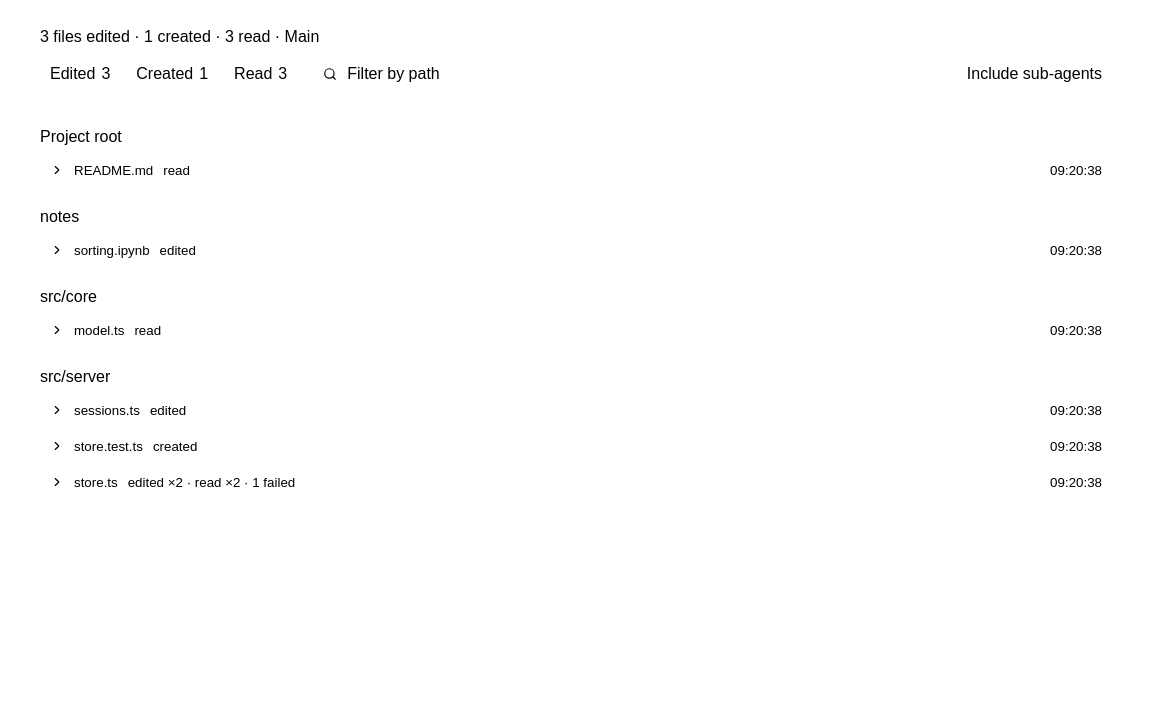
Test case: FilesView › shows each edit of a MultiEdit, a Write by its size and first lines, and a notebook cell
The image size is (1152, 717).
Step 1. Click the button "sessions.ts edited 09:20:38" → (107, 410), box 40,392 -> 1112,428
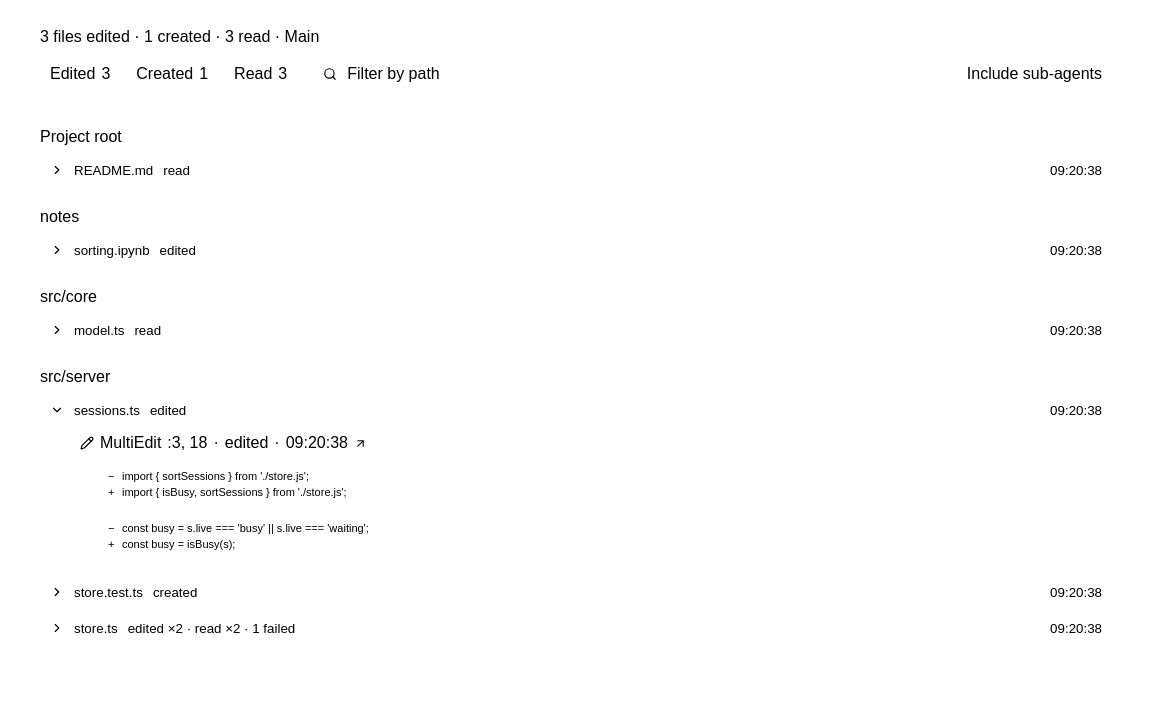
Result: the number of lists named "Change" is 2 at 122,470 -> 347,498; 122,522 -> 369,550
Step 2. Click the button "store.test.ts created 09:20:38" → (108, 592), box 40,574 -> 1112,610
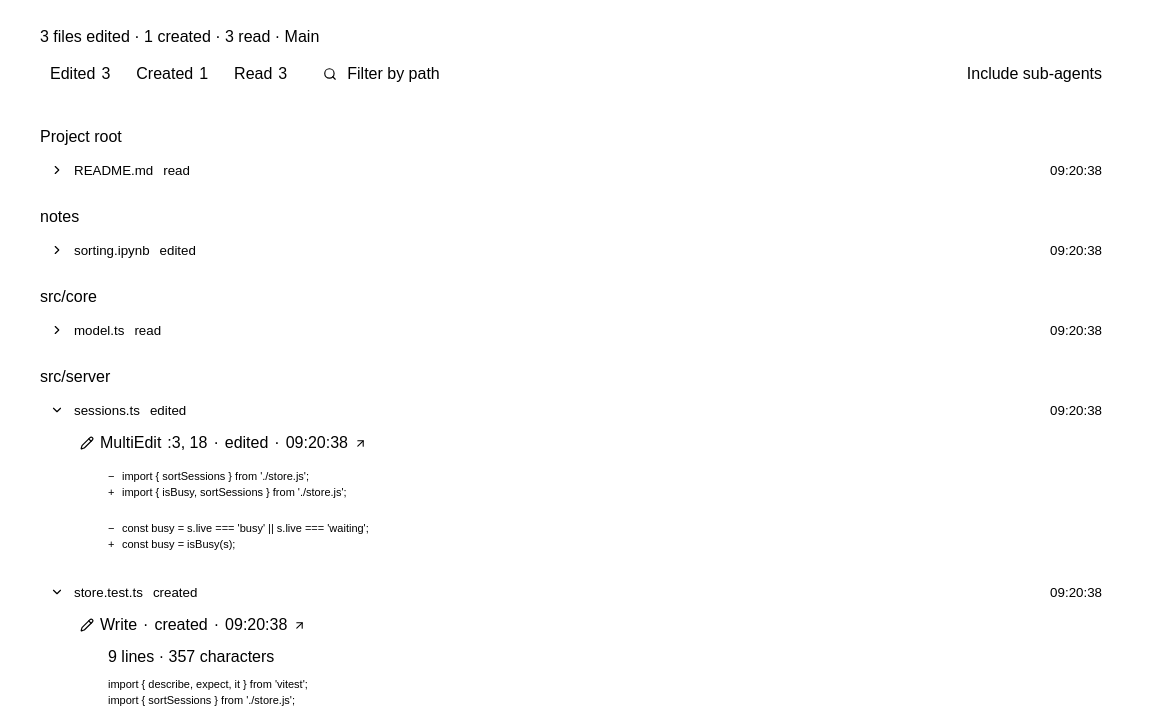
Step 3. Click the button "sorting.ipynb edited 09:20:38" → (112, 250), box 40,232 -> 1112,268
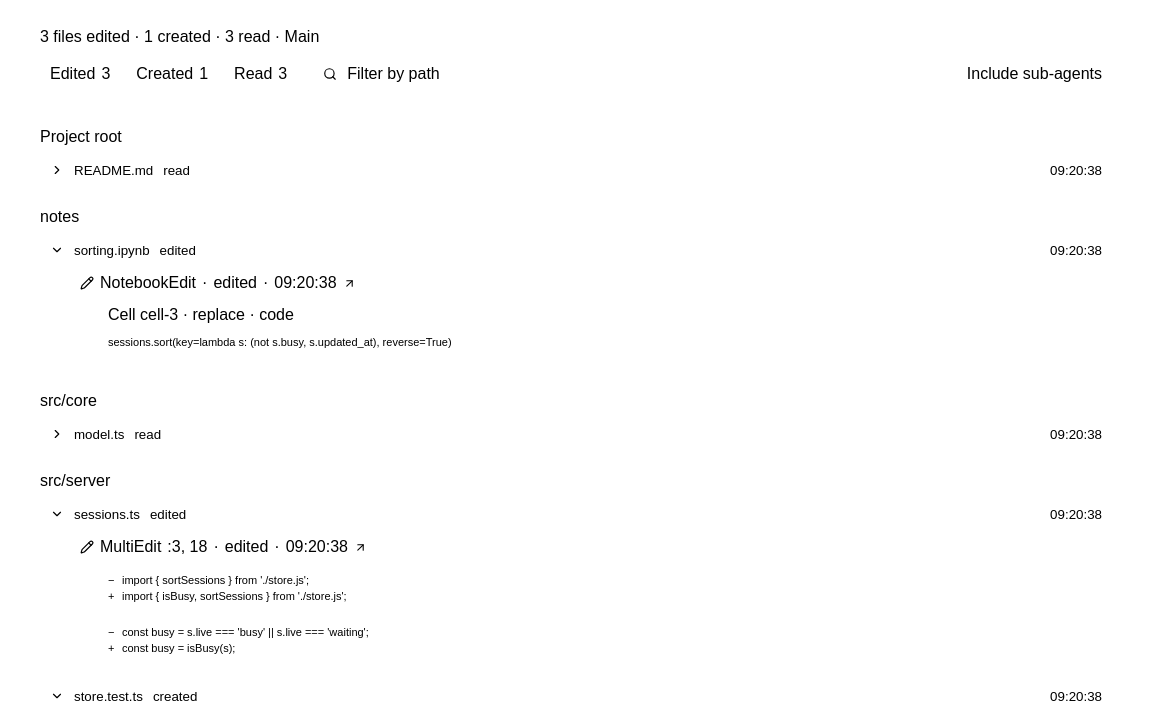
Result: the text "Cell cell-3 · replace · code" is shown at 108,306 -> 294,323
Result: the text "sessions.sort(key=lambda" is shown at 108,336 -> 452,348
